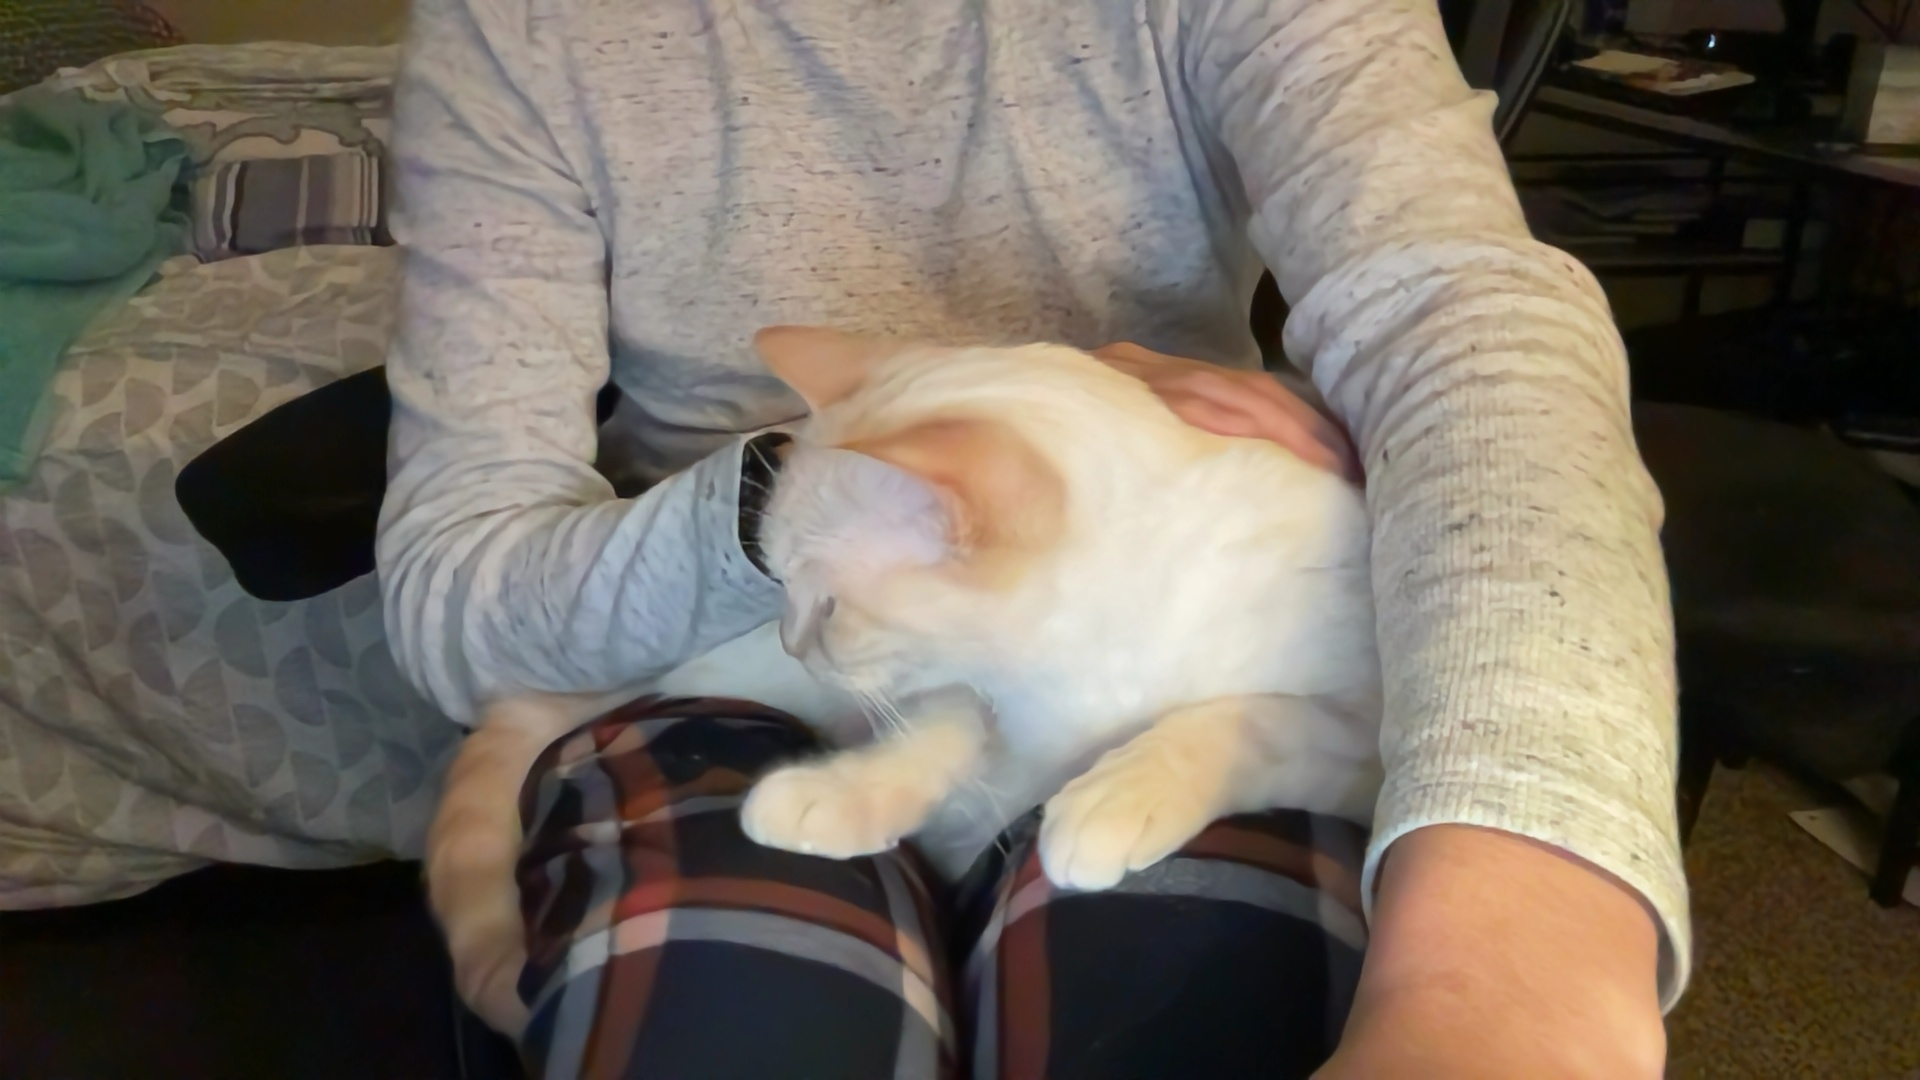cat: (729, 305, 1385, 914)
